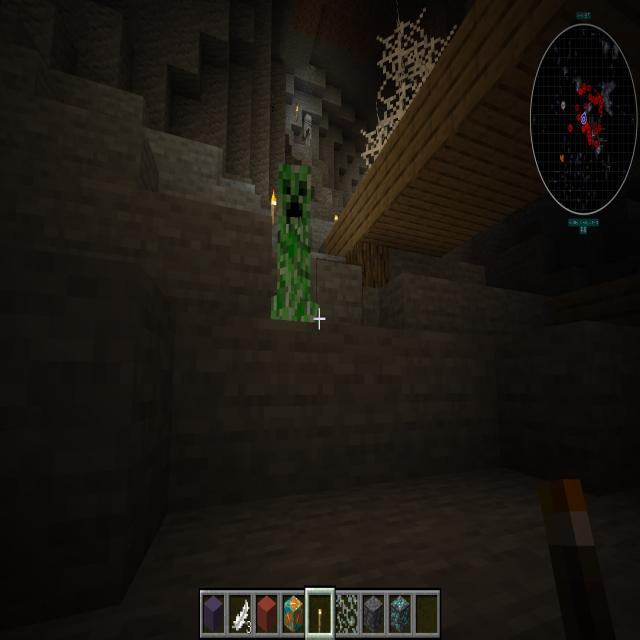Creeper: (266, 154, 326, 339)
